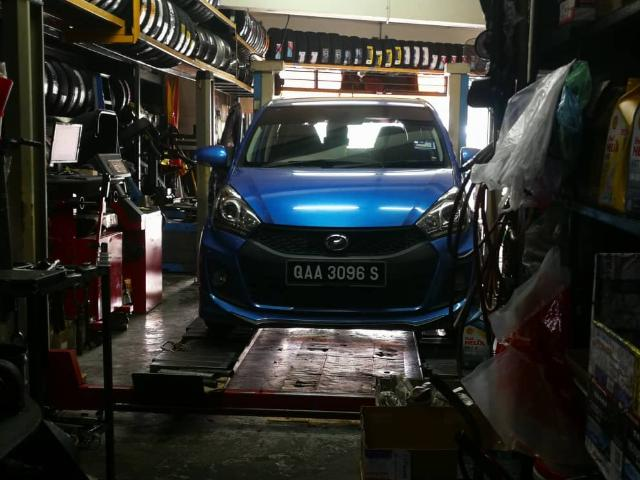License_Plate: (287, 262, 390, 289)
car: (190, 94, 497, 336)
